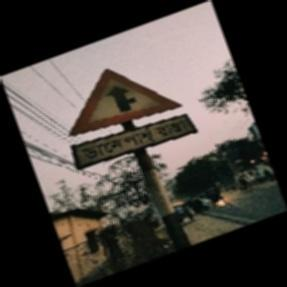Side-road-right: (68, 67, 194, 172)
